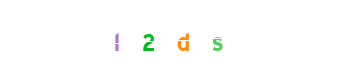2: (136, 0, 216, 80)
D: (140, 0, 220, 80)
L: (107, 0, 187, 80)
S: (144, 0, 224, 80)
